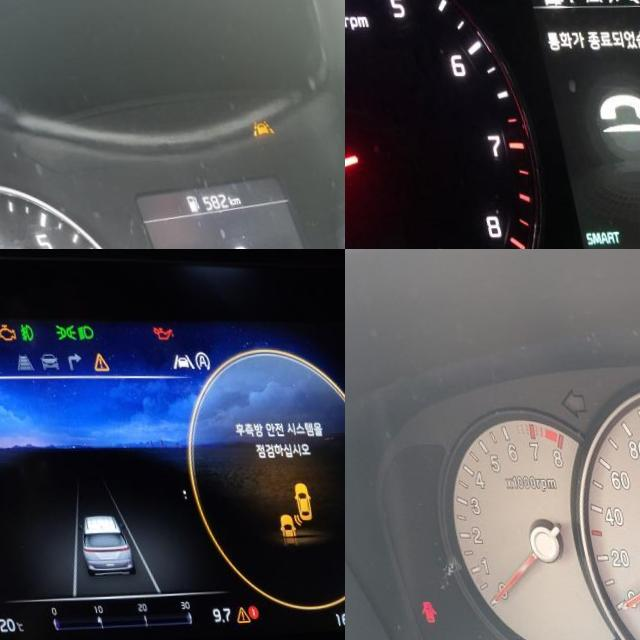Central Warning lamp: (84, 351, 102, 370), (216, 605, 233, 622)
Doors: (402, 599, 421, 623)
FrontFogLight: (11, 322, 28, 341)
LaneCenteringOff: (240, 116, 268, 137), (163, 352, 187, 368)
Low beam: (70, 323, 88, 340)
SideLamp: (48, 322, 71, 340)
